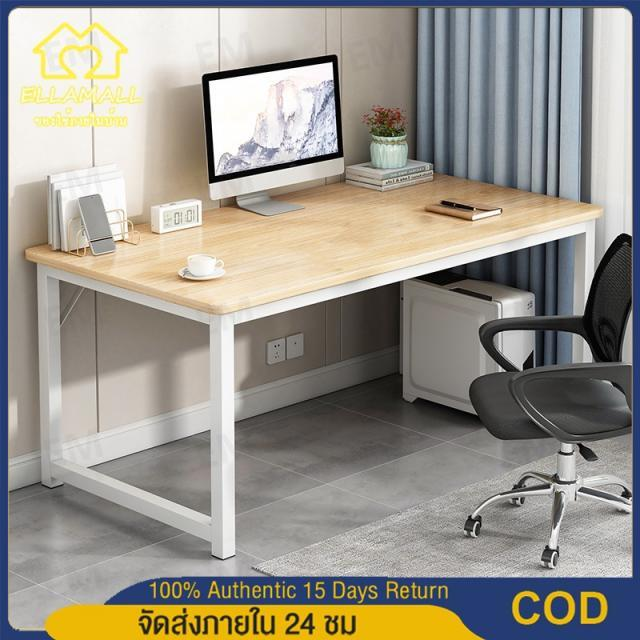table: (29, 150, 606, 330)
